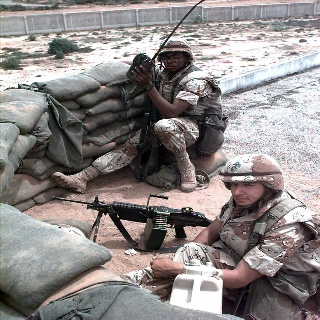rifle: (52, 188, 214, 247)
